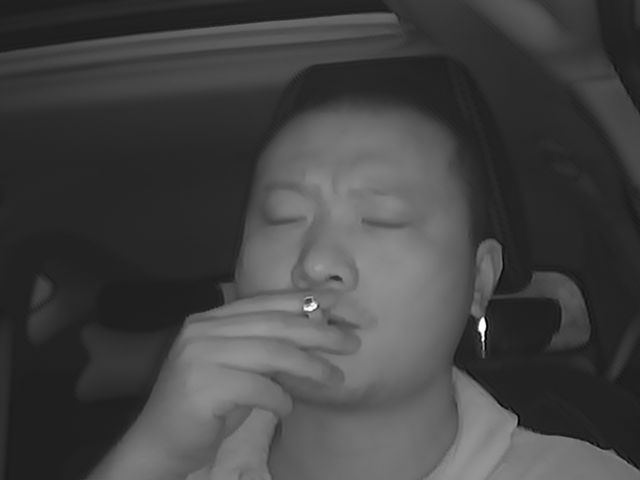hand: (200, 280, 351, 426)
